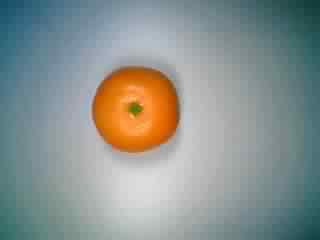orange: (87, 62, 182, 156)
